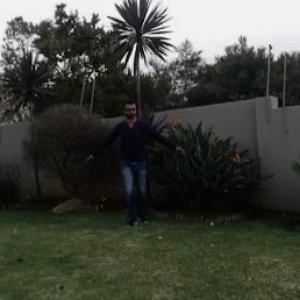land: (79, 92, 191, 234)
